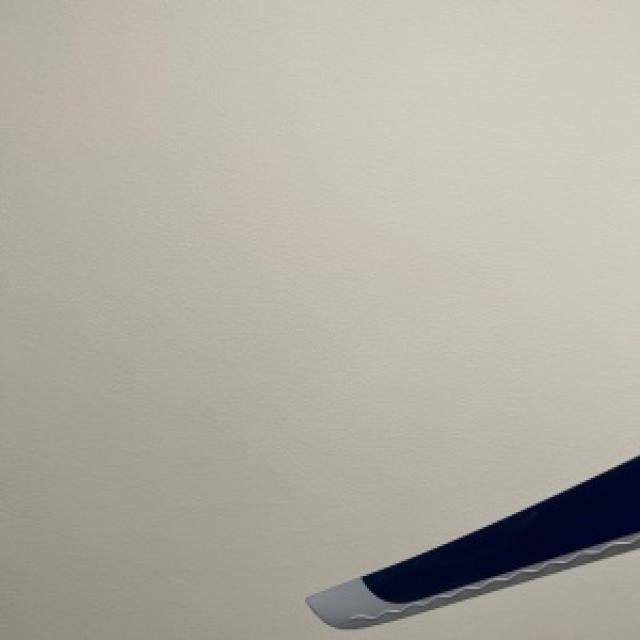healthy: (352, 550, 638, 638)
